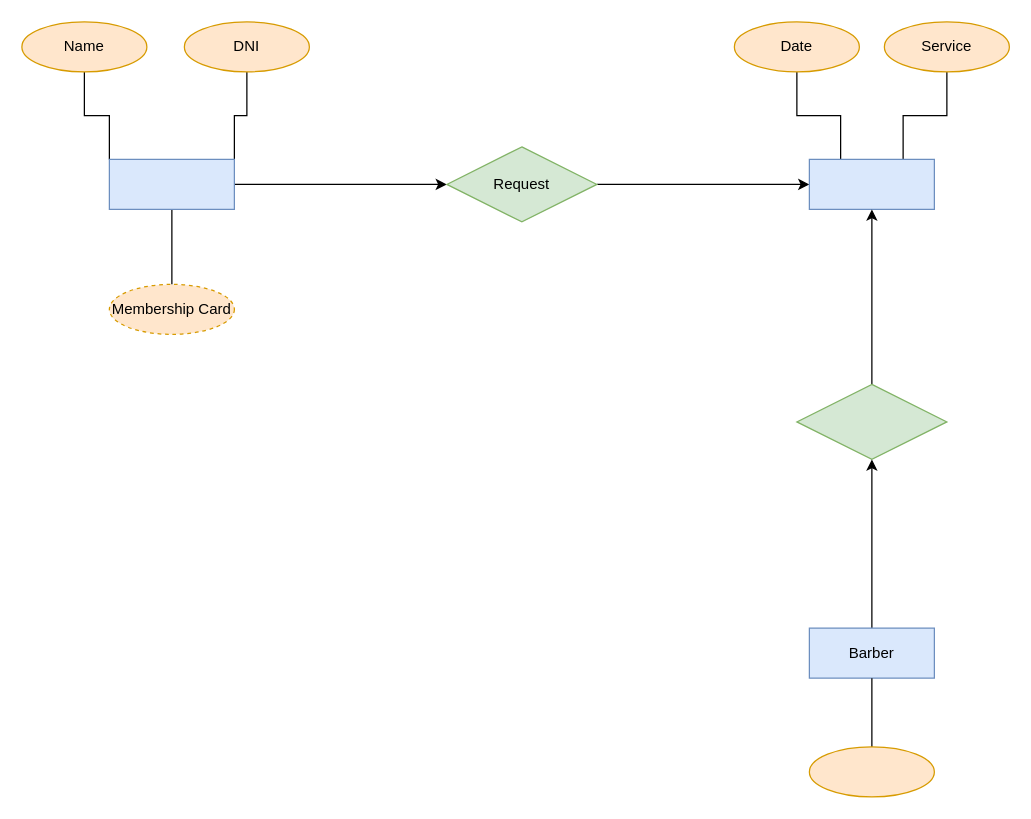
This 1031x819 diagram has some shape labels left out. Here are the shapes that lost their labels. From the top down, the centre of each, then its label:
At (171,183): "Client".
At (871,183): "Booking".
At (871,421): "Receive".
At (871,771): "ID".
